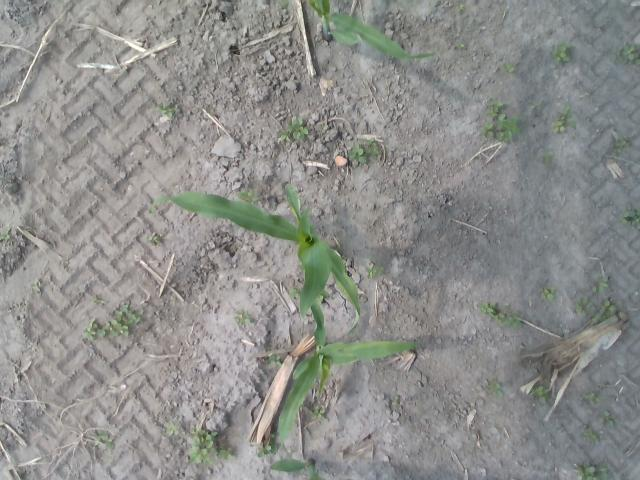Maize: (151, 186, 363, 319), (274, 278, 415, 439), (310, 1, 435, 60), (264, 457, 318, 479)
Weeds: (97, 300, 143, 338), (188, 430, 218, 466), (550, 109, 576, 133), (496, 116, 520, 140), (618, 44, 640, 65), (578, 464, 606, 479), (286, 120, 308, 138), (349, 142, 366, 162), (488, 102, 506, 120), (163, 419, 180, 436), (622, 210, 640, 226), (365, 263, 384, 278), (576, 298, 591, 316), (534, 386, 548, 404), (237, 188, 258, 200), (556, 45, 570, 62), (94, 435, 113, 447), (310, 405, 326, 419), (498, 313, 520, 323), (84, 320, 95, 340), (480, 303, 494, 318), (490, 380, 503, 396), (604, 300, 617, 316), (604, 409, 616, 426), (592, 281, 608, 293), (540, 288, 556, 300), (480, 123, 494, 136), (157, 104, 175, 114), (219, 446, 233, 458), (257, 445, 272, 456), (584, 428, 596, 440), (614, 140, 624, 154), (540, 152, 552, 163), (585, 393, 597, 403), (504, 62, 516, 72), (0, 231, 10, 242), (94, 296, 105, 306), (149, 232, 158, 241), (368, 146, 378, 154), (366, 137, 376, 145), (391, 396, 398, 406), (455, 44, 464, 50)
